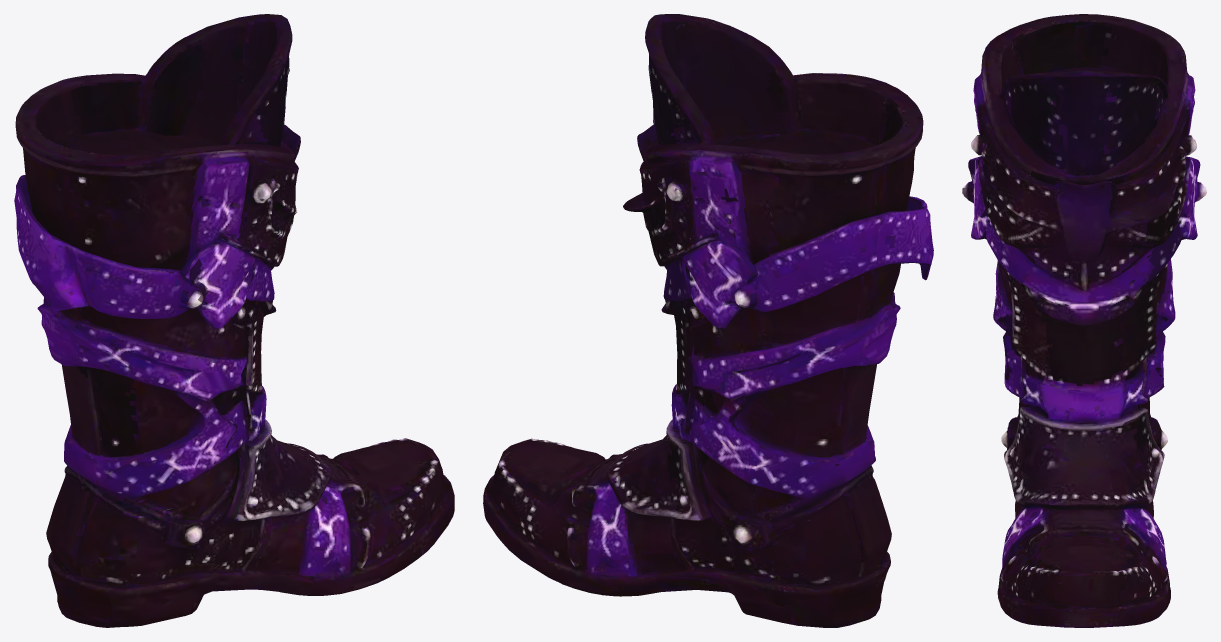
Rendered from tecelao-greva.glb.
3 renders of one model, left to right at view 1: azimuth 30°, elevation 25°; view 2: azimuth 150°, elevation 25°; view 3: azimuth 270°, elevation 25°, orthographic. The views are drawn at different scales.
Parts seen in each view (by area): view 1: tripo_node_b9d9db54-6f29-414d-881b-06888a0cecc0; view 2: tripo_node_b9d9db54-6f29-414d-881b-06888a0cecc0; view 3: tripo_node_b9d9db54-6f29-414d-881b-06888a0cecc0.
Boxes of the visible parts, x1,y1,x2,y2 form: tripo_node_b9d9db54-6f29-414d-881b-06888a0cecc0: (14,14,454,627); tripo_node_b9d9db54-6f29-414d-881b-06888a0cecc0: (483,14,933,627); tripo_node_b9d9db54-6f29-414d-881b-06888a0cecc0: (962,14,1206,627).
Size of the model in its own units: 0.7995 by 0.9783 by 0.4227.
Materials: 1 (1 with a texture image).
